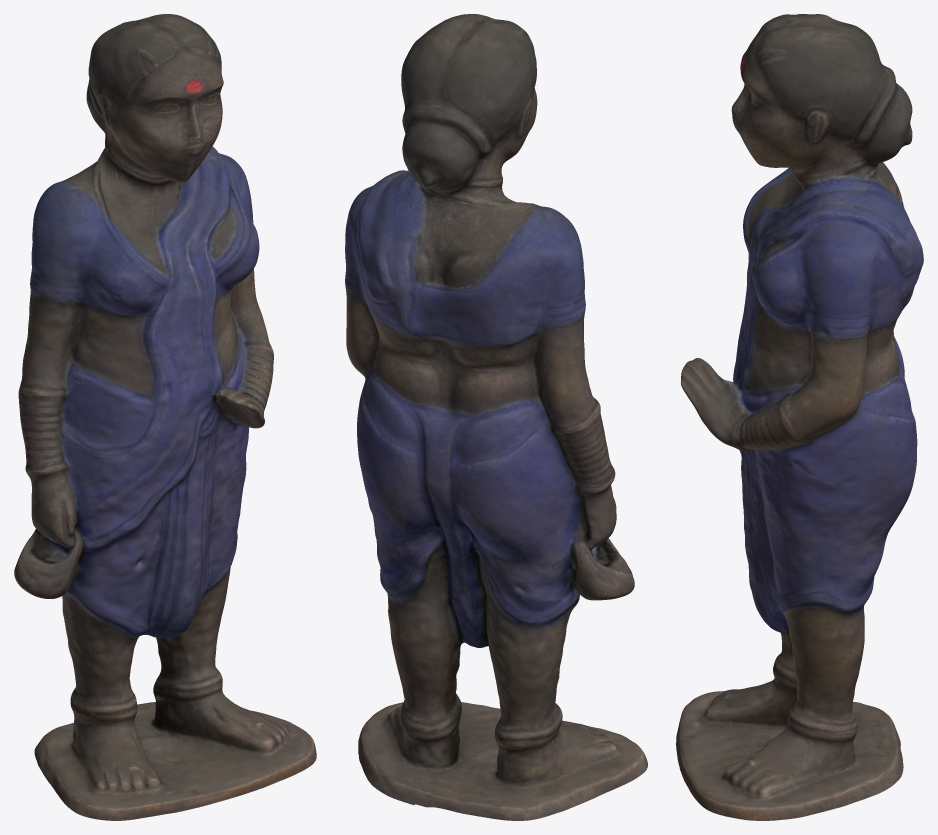
The model's file is female-with-blue-saree.glb.
3 views of the same model, side by side, from view 1: azimuth 30°, elevation 25°; view 2: azimuth 150°, elevation 25°; view 3: azimuth 270°, elevation 25° (orthographic). The views are drawn at different scales.
Visible parts, largest first — view 1: 04 - Female with blue saree; view 2: 04 - Female with blue saree; view 3: 04 - Female with blue saree.
Boxes of the visible parts, x1=… form: 04 - Female with blue saree: x1=14, y1=14, x2=316, y2=820; 04 - Female with blue saree: x1=345, y1=14, x2=647, y2=820; 04 - Female with blue saree: x1=676, y1=14, x2=923, y2=820.
Size of the model in its own units: 0.1949 by 0.5 by 0.1525.
Materials: 2 (1 with a texture image).
